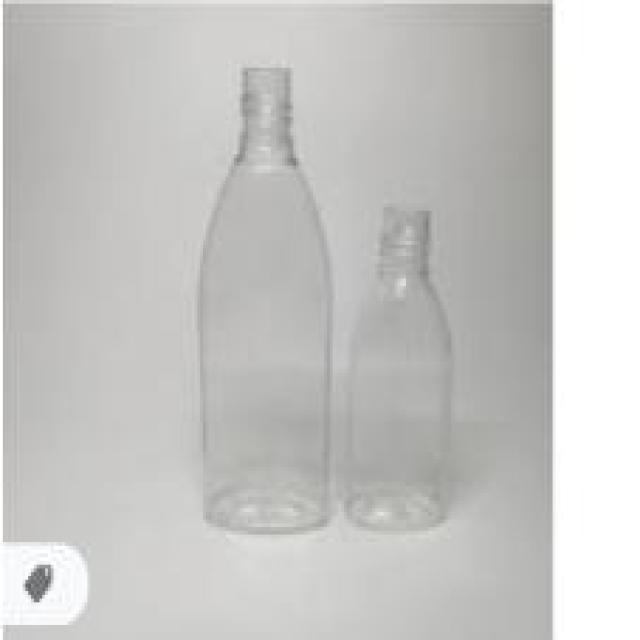bottle: (189, 64, 335, 542), (341, 207, 454, 535)
